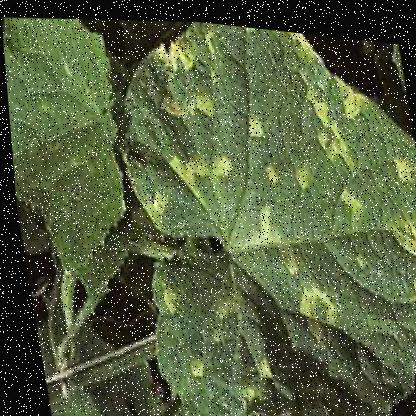DownyMildew: (110, 15, 281, 415), (205, 63, 378, 346), (267, 109, 415, 310)
